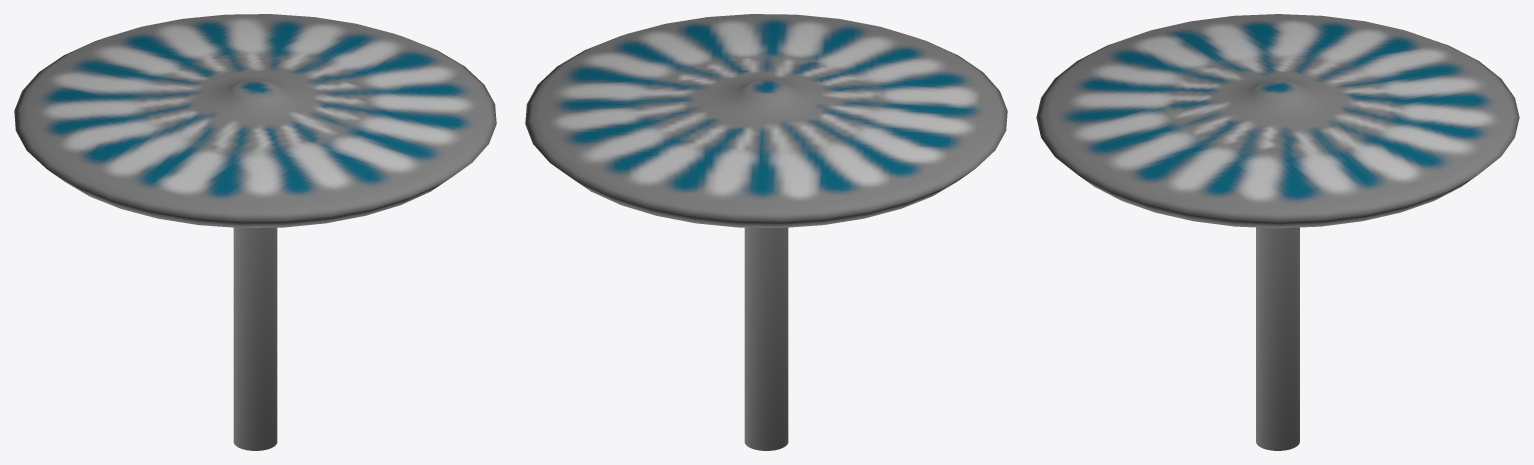
File: IFB399-Umbrella.obj
3 views of the same model, side by side, from view 1: azimuth 30°, elevation 25°; view 2: azimuth 150°, elevation 25°; view 3: azimuth 270°, elevation 25° (orthographic).
Visible parts, largest first — view 1: Cylinder_Cylinder.001; view 2: Cylinder_Cylinder.001; view 3: Cylinder_Cylinder.001.
Part boxes in pixels (left/top/right/bottom): Cylinder_Cylinder.001: left=14, top=14, right=496, bottom=450; Cylinder_Cylinder.001: left=525, top=14, right=1007, bottom=450; Cylinder_Cylinder.001: left=1036, top=14, right=1519, bottom=450.
Size of the model in its own units: 1.23 by 0.9928 by 1.23.
